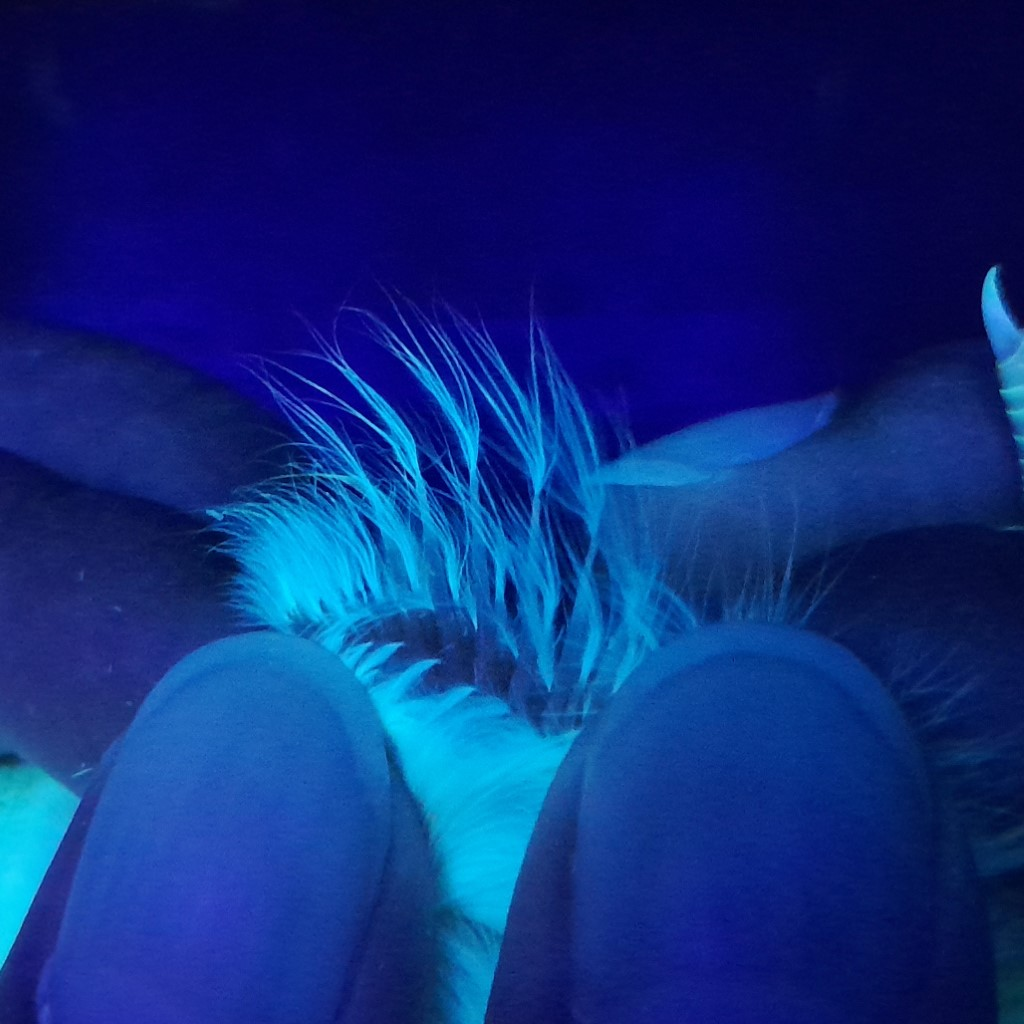male: (285, 443, 672, 766)
